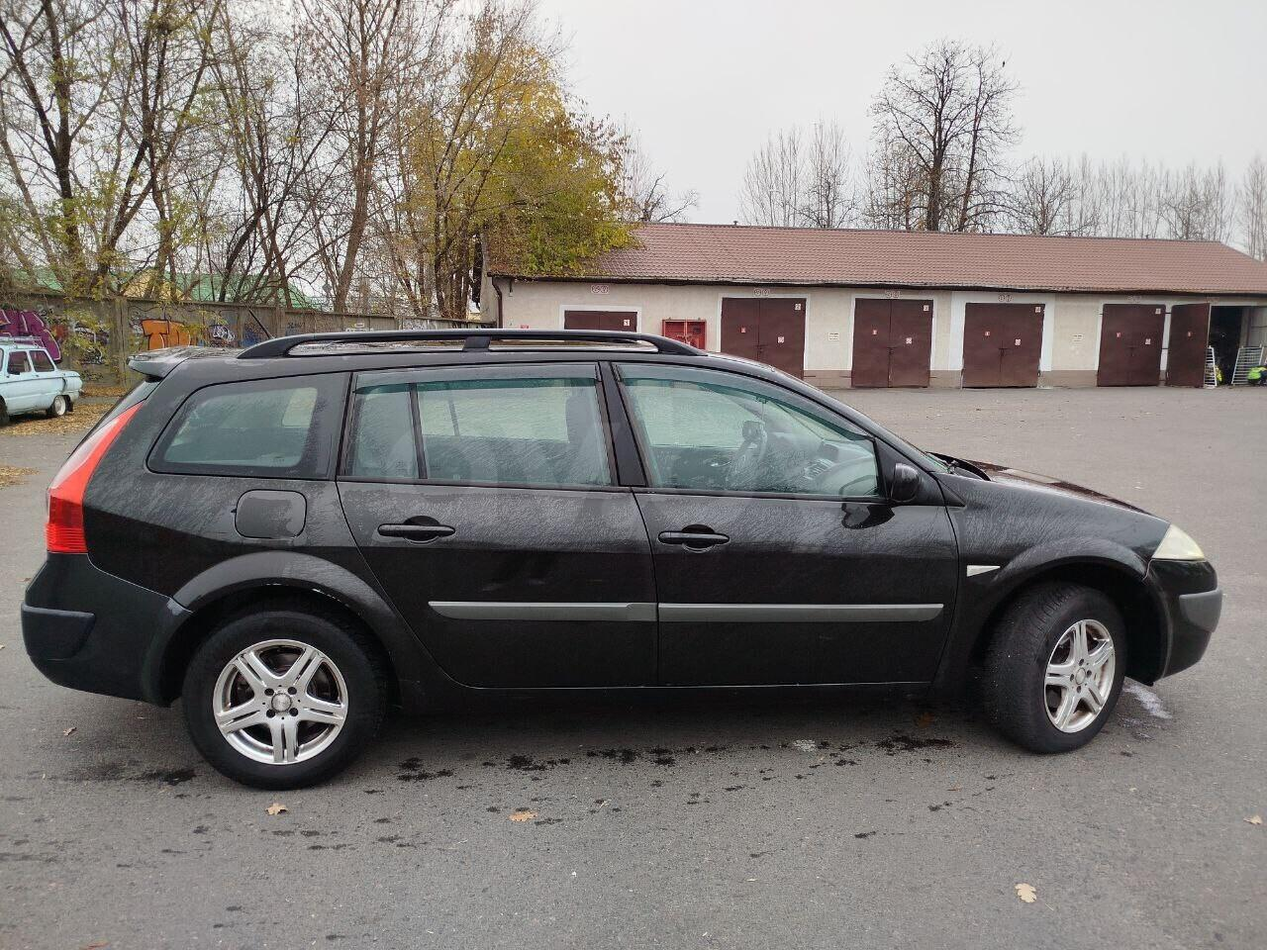Megane_2005-2009: (12, 336, 1215, 797)
